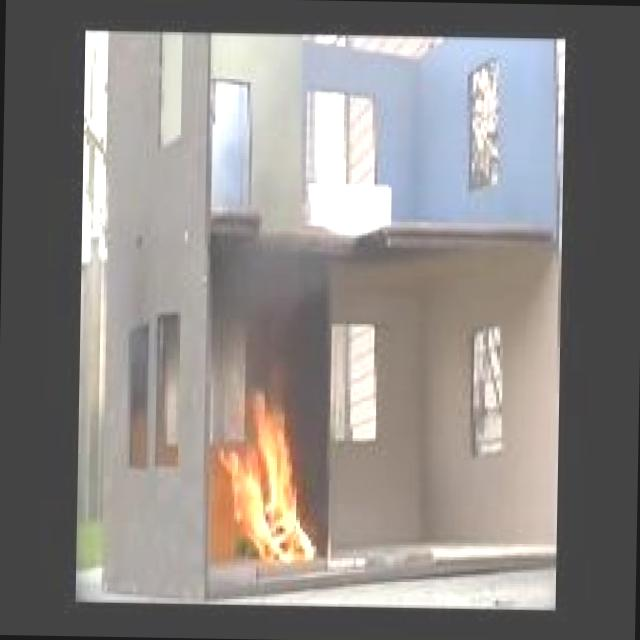fire: (220, 386, 326, 572)
